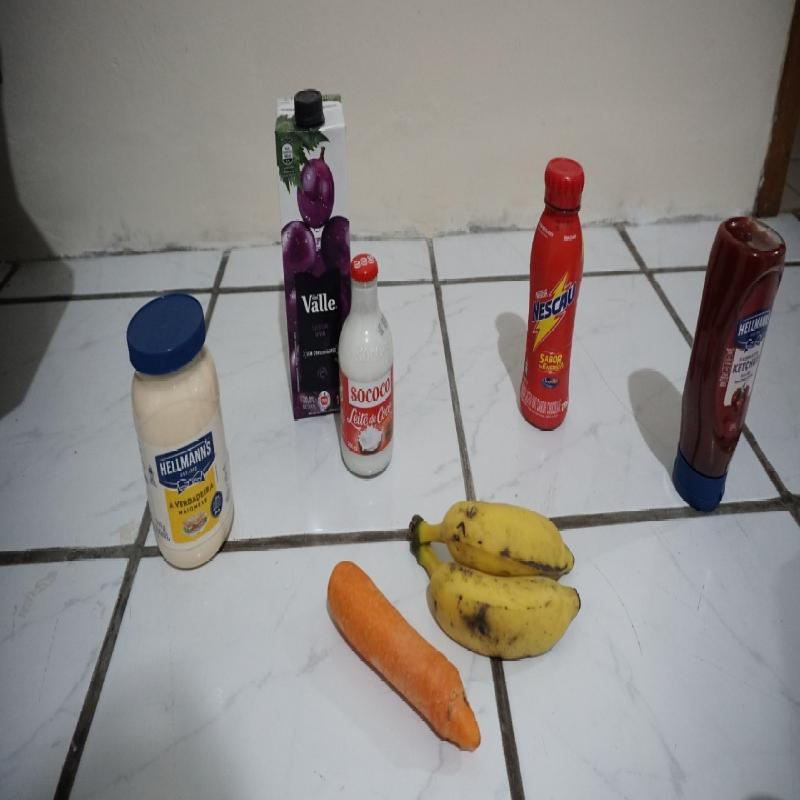Banana: (414, 503, 586, 656)
Carrot: (324, 554, 412, 695)
Chocolate Milk: (521, 153, 584, 428)
Coconut Milk: (333, 249, 400, 488)
Ketchup: (671, 209, 786, 522)
Mayonnaise: (126, 292, 237, 573)
